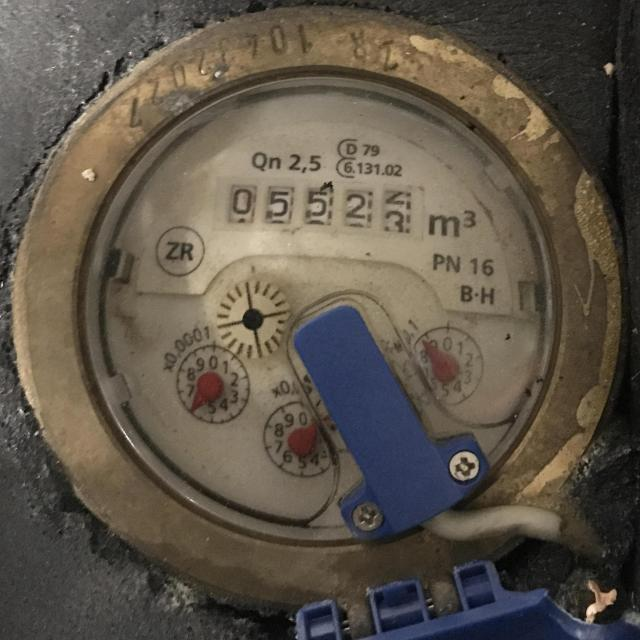gaz_meter: (111, 85, 557, 532)
indication: (216, 180, 423, 237)
